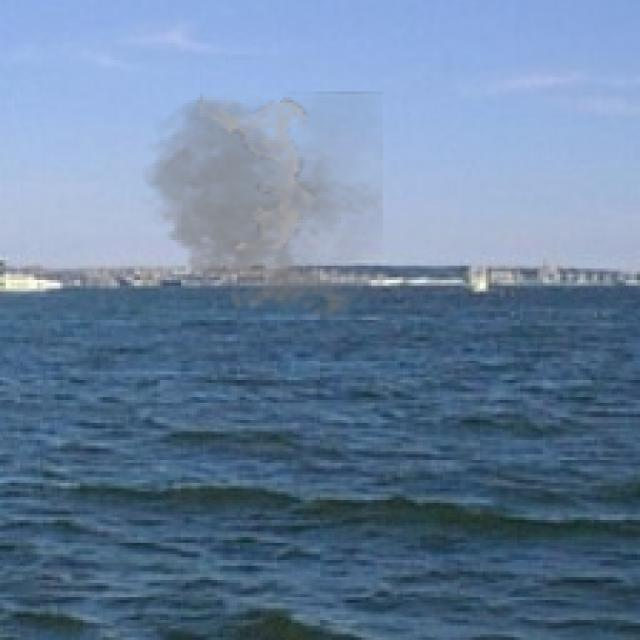smoke: (131, 91, 383, 323)
